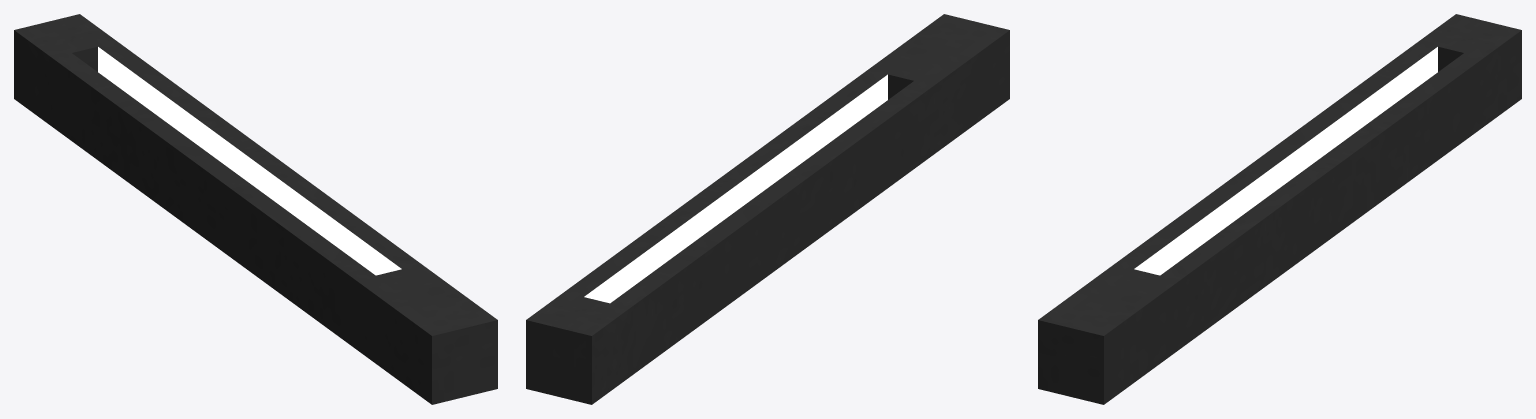
The model's file is house_modernlamp.glb.
The picture shows the model from 3 angles, left to right: view 1: azimuth 30°, elevation 25°; view 2: azimuth 150°, elevation 25°; view 3: azimuth 330°, elevation 25°; orthographic projection.
Visible parts, largest first — view 1: ModernLamp; view 2: ModernLamp; view 3: ModernLamp.
Boxes of the visible parts, x1,y1,x2,y2 form: ModernLamp: (14, 14, 497, 404); ModernLamp: (526, 14, 1009, 404); ModernLamp: (1038, 14, 1521, 404).
Size of the model in its own units: 10 by 10 by 110.
2 materials, 1 textured.
